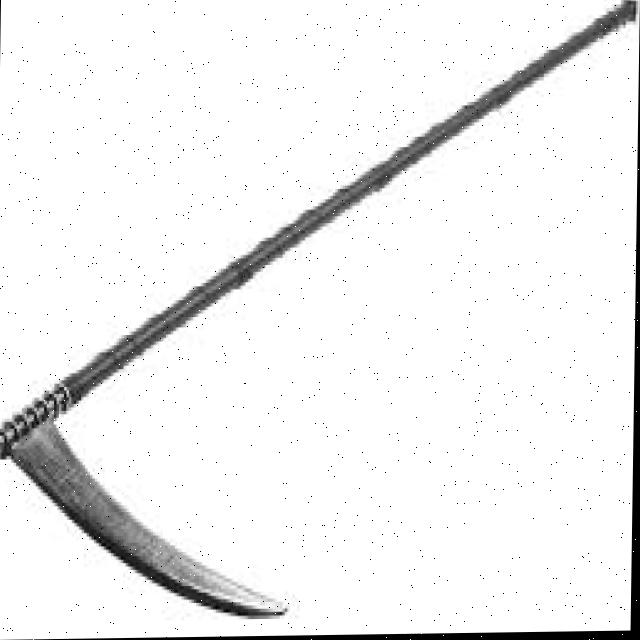sickle: (0, 20, 640, 640)
